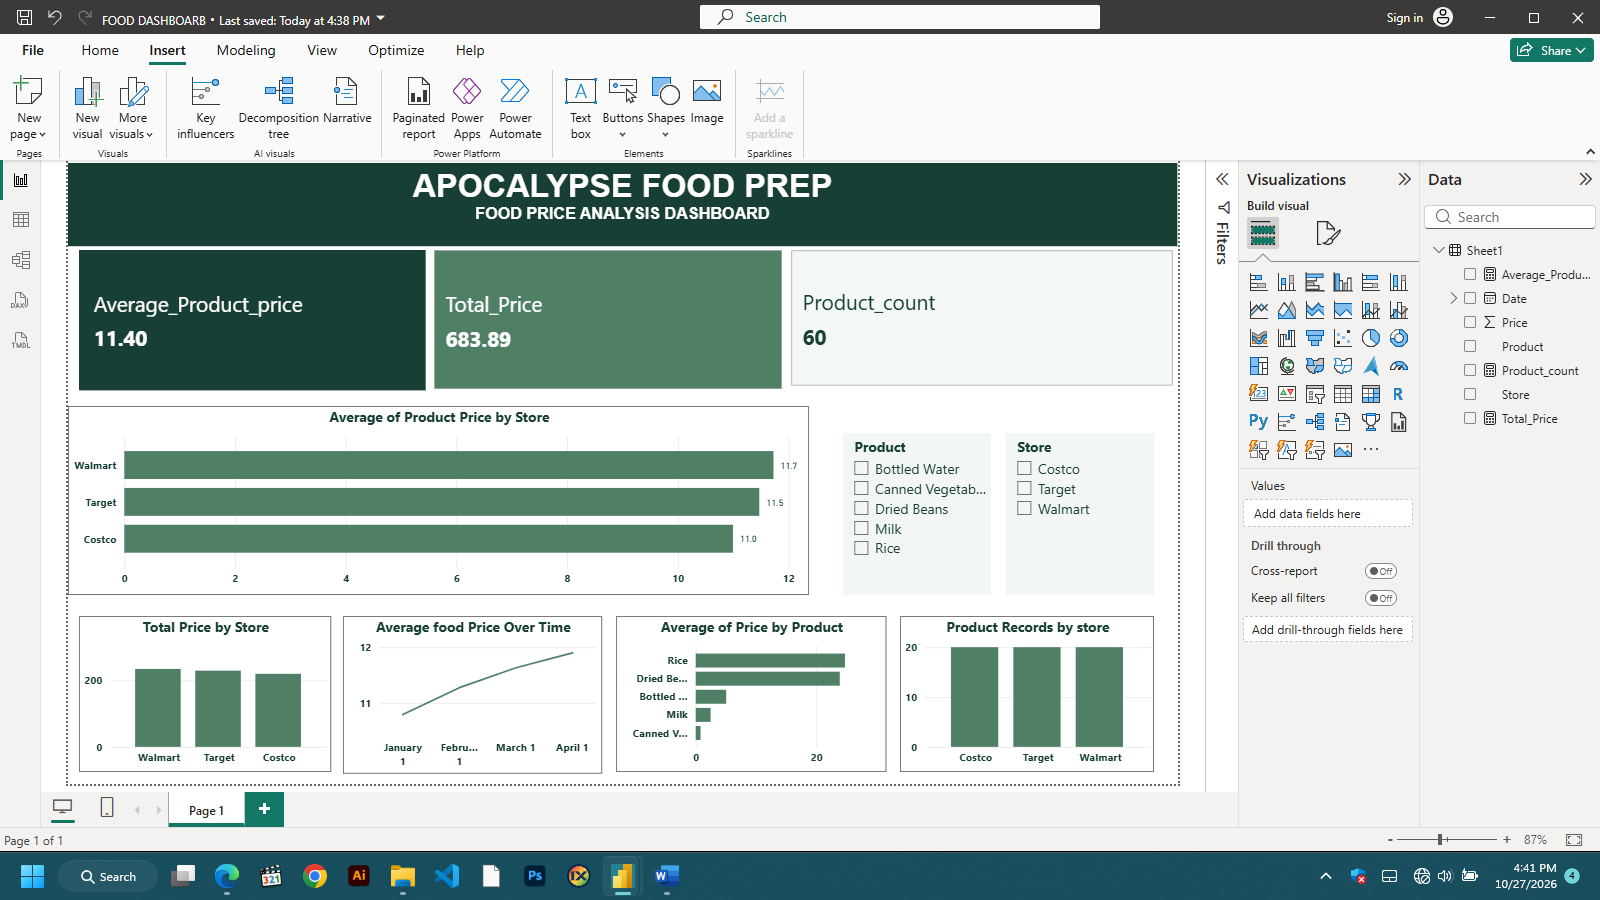

The page's visual inventory and layout, read from the dashboard file:
{"tool":"powerbi","page":{"name":"Page 1","canvas":[1280,720],"ordinal":0},"visuals":[{"type":"cardVisual","title":"AVERAGE PRODUCT PRICE","fields":{"Data":["Sheet1.Average_Product_price"]},"box":[12.7,103.8,400.4,161.5],"z":0},{"type":"cardVisual","fields":{"Data":["Sheet1.Total_Price"]},"box":[417.7,99.2,411.9,170.8],"z":1000},{"type":"cardVisual","fields":{"Data":["Sheet1.Product_count"]},"box":[829.6,99.2,450,166.2],"z":2000},{"type":"clusteredBarChart","title":"Average of Product Price by Store","fields":{"Category":["Sheet1.Store"],"Y":["Avg(Sheet1.Price)"]},"box":[0,283.8,855,218.1],"z":3000},{"type":"clusteredColumnChart","title":"Product Records by store","fields":{"Category":["Sheet1.Store"],"Y":["CountNonNull(Sheet1.Product)"]},"box":[960,526.2,293.1,180],"z":4000},{"type":"clusteredBarChart","fields":{"Category":["Sheet1.Product"],"Y":["Avg(Sheet1.Price)"]},"box":[632.3,526.2,311.5,180],"z":5000},{"type":"lineChart","title":"Average food Price Over Time","fields":{"Y":["Avg(Sheet1.Price)"],"Category":["Sheet1.Date.Variation.Date Hierarchy.Month","Sheet1.Date.Variation.Date Hierarchy.Day"]},"box":[317.3,526.2,298.8,182.3],"z":6000},{"type":"clusteredColumnChart","title":"Total Price by Store","fields":{"Category":["Sheet1.Store"],"Y":["Sum(Sheet1.Price)"]},"box":[12.7,526.2,290.8,180],"z":7000},{"type":"slicer","fields":{"Values":["Sheet1.Store"]},"box":[1082.3,315,170.8,186.9],"z":8000},{"type":"slicer","fields":{"Values":["Sheet1.Product"]},"box":[894.2,315,170.8,186.9],"z":9000},{"type":"textbox","box":[0,3.5,1279.6,95.8],"z":10000}]}

Visuals, with their boxes on the page's 1280x720 design canvas (x1, y1, x2, y2). These are canvas units, not pixel positions in the 1600x900 screenshot, which may show the page scaled, cropped or inside an application window:
"AVERAGE PRODUCT PRICE" cardVisual: bbox(13, 104, 413, 265)
cardVisual - Sheet1.Total_Price: bbox(418, 99, 830, 270)
cardVisual - Sheet1.Product_count: bbox(830, 99, 1280, 265)
"Average of Product Price by Store" clusteredBarChart: bbox(0, 284, 855, 502)
"Product Records by store" clusteredColumnChart: bbox(960, 526, 1253, 706)
clusteredBarChart - Sheet1.Product x Avg(Sheet1.Price): bbox(632, 526, 944, 706)
"Average food Price Over Time" lineChart: bbox(317, 526, 616, 708)
"Total Price by Store" clusteredColumnChart: bbox(13, 526, 304, 706)
slicer - Sheet1.Store: bbox(1082, 315, 1253, 502)
slicer - Sheet1.Product: bbox(894, 315, 1065, 502)
textbox: bbox(0, 4, 1280, 99)
